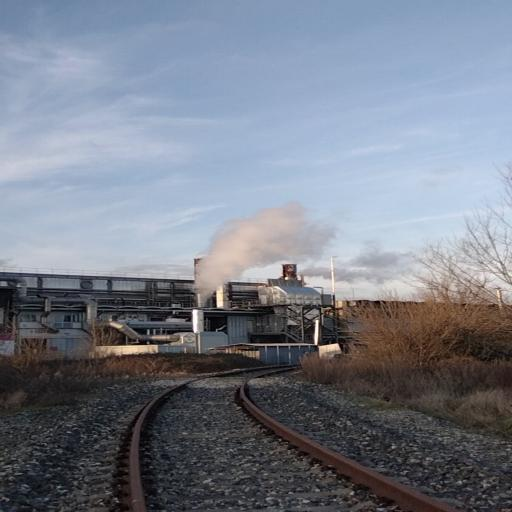leakage: (177, 195, 461, 313)
